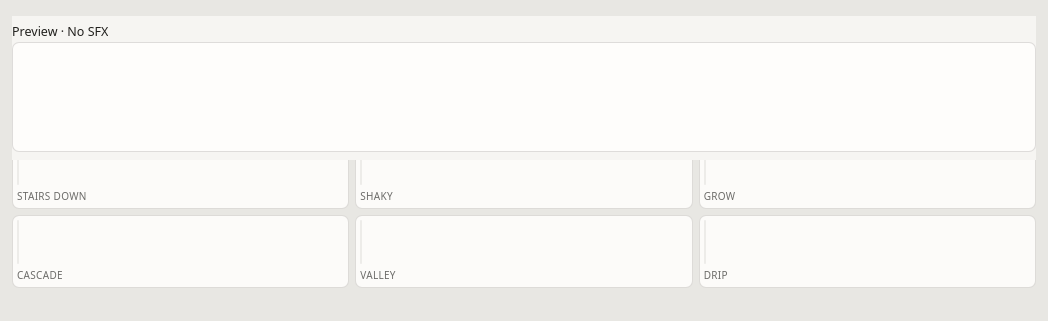
a preset that is the box's mesh › is taken off the box by the next preset and by Remove SFX
The image size is (1048, 321).
Click the radio button labelled "Valley".
click(378, 275)  # box [355, 215, 693, 288]
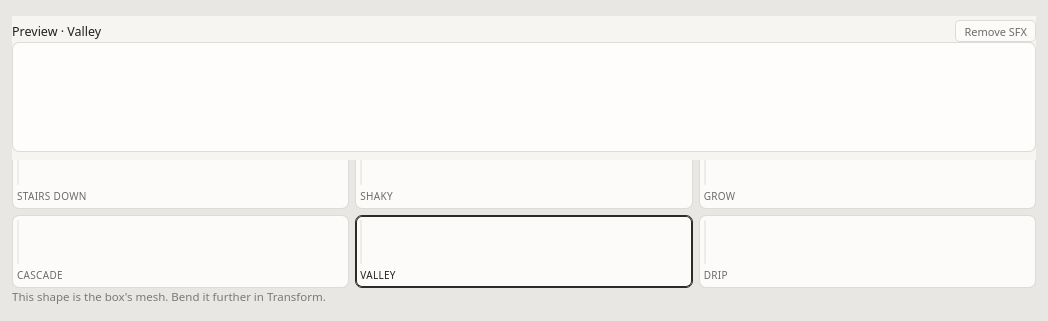
Click the radio button labelled "Grow".
click(720, 196)  # box [699, 136, 1036, 209]
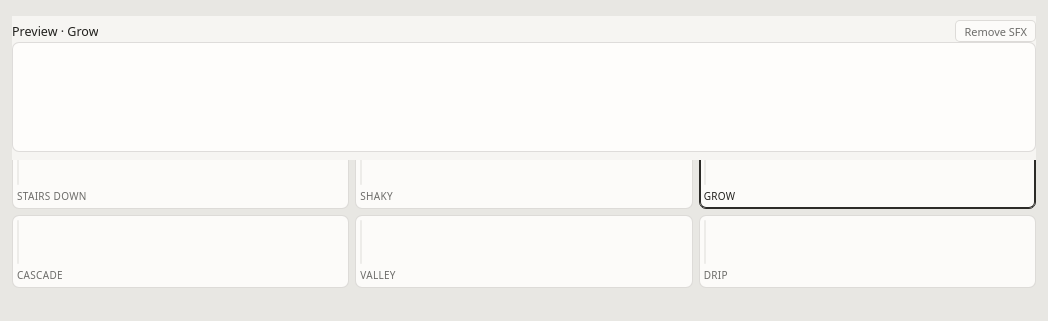
expect the text "This shape is the box's mesh. Bend it further in Transform." is gone: met
Click the radio button labelled "Valley".
click(378, 275)  # box [355, 215, 693, 288]
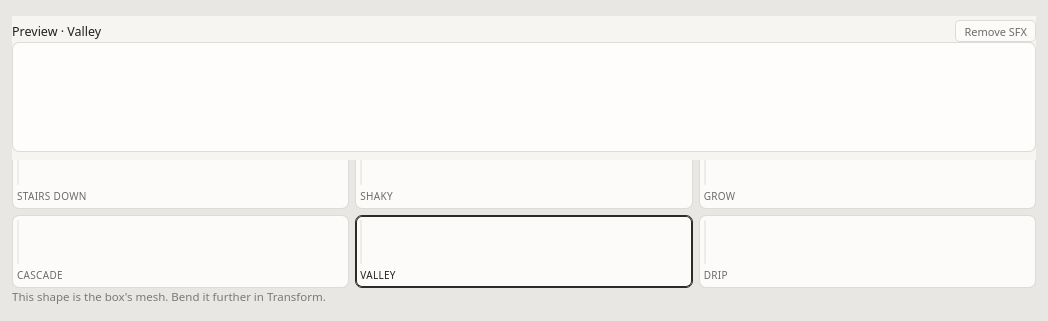
Click the button "Remove SFX".
click(996, 31)  # box [955, 20, 1036, 42]
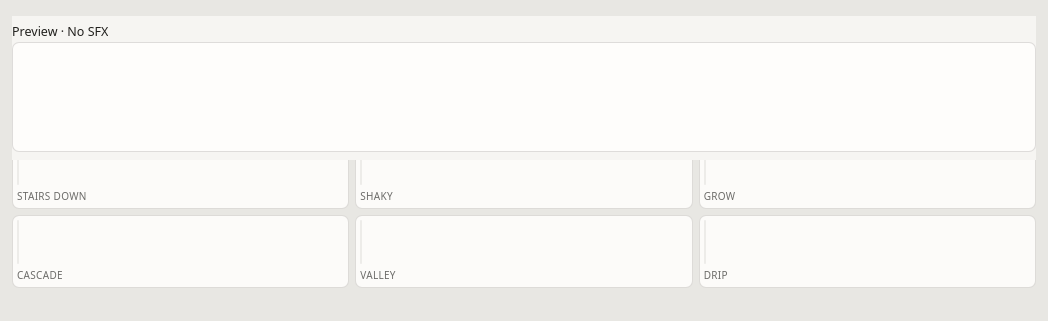
expect the text "Preview · No SFX" is shown: met, box [12, 22, 108, 40]
expect the text "This shape is the box's mesh. Bend it further in Transform." is gone: met
